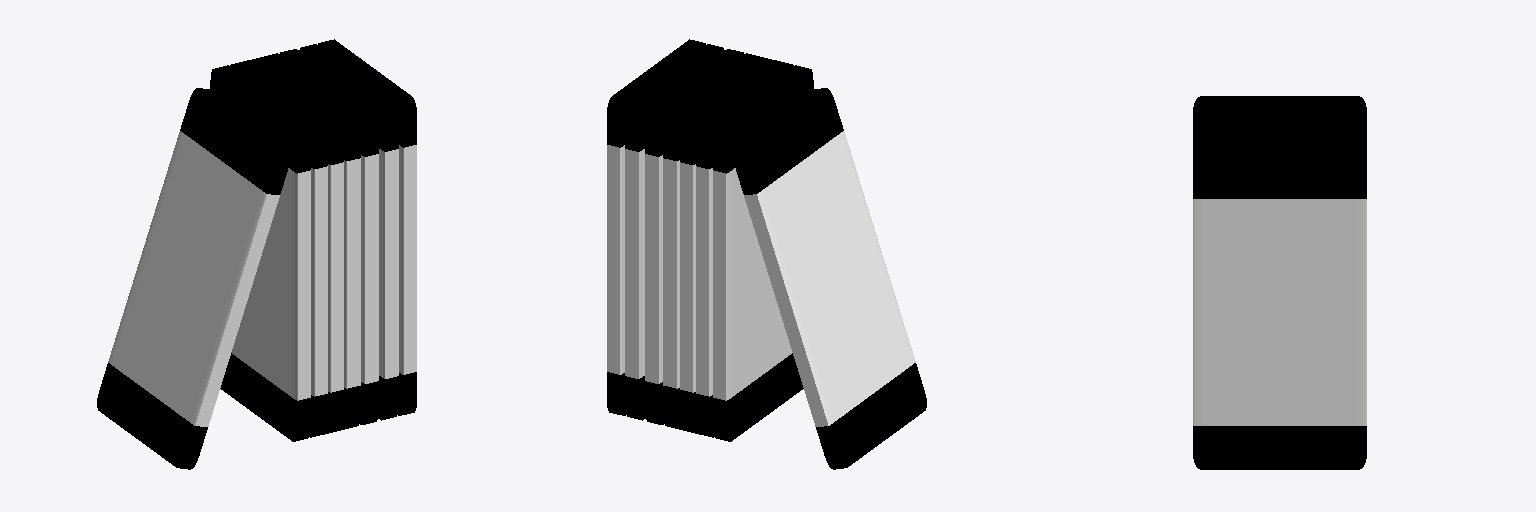
3 views of the same model, side by side, from view 1: azimuth 30°, elevation 25°; view 2: azimuth 150°, elevation 25°; view 3: azimuth 270°, elevation 25° (orthographic).
Visible parts, largest first — view 1: Cube.027; view 2: Cube.027; view 3: Cube.027.
Part boxes in pixels (x1,y1,x2,y2): Cube.027: (97, 39, 416, 469); Cube.027: (607, 39, 926, 469); Cube.027: (1193, 96, 1366, 469).
Bounding box in the file's own units: 0.1566 × 0.2015 × 0.1.
1 materials, 1 textured.